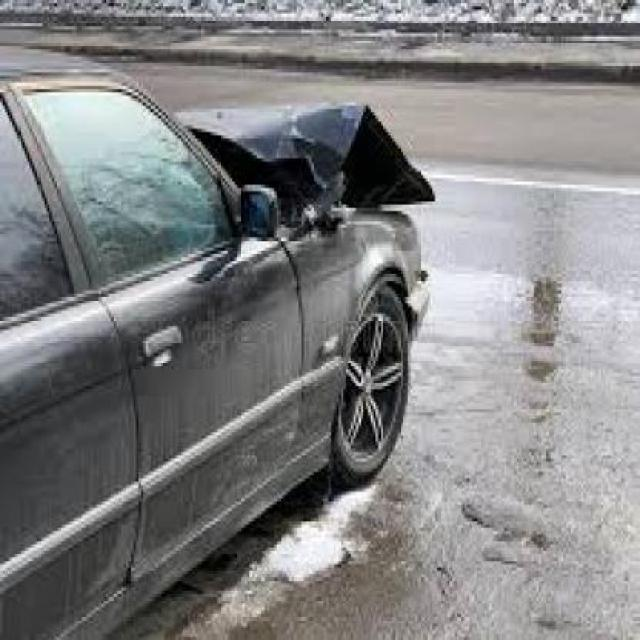damaged-hood: (174, 102, 442, 208)
